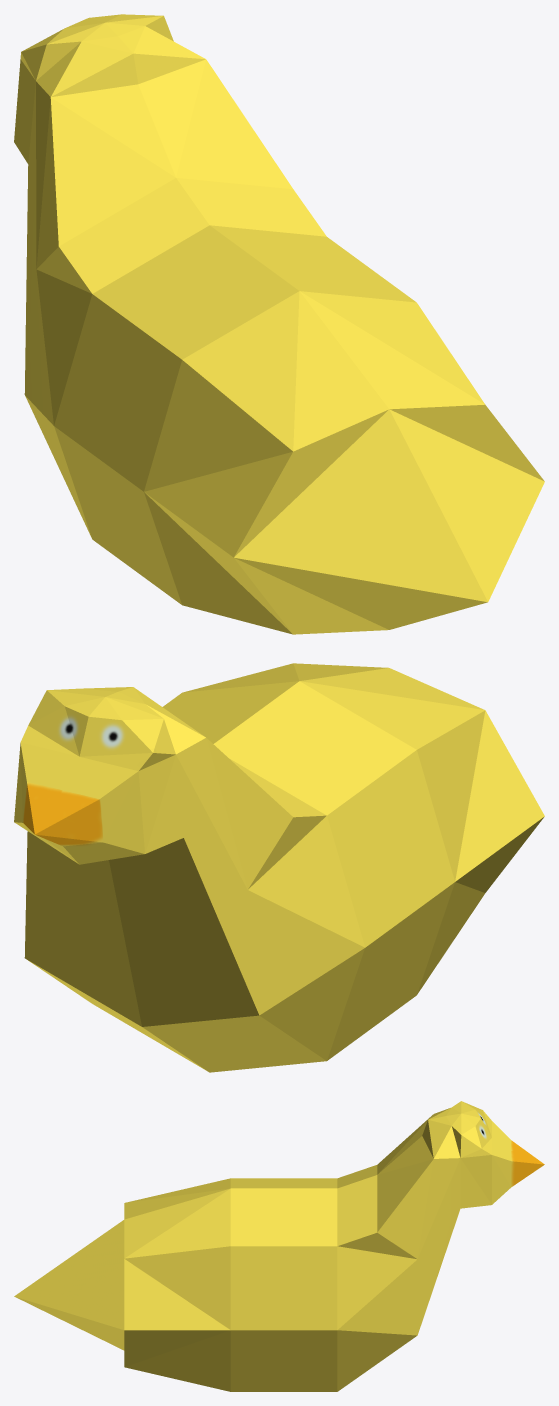
Rendered from chicken.gltf.
3 views of the same model, one above another, from view 1: azimuth 30°, elevation 25°; view 2: azimuth 150°, elevation 25°; view 3: azimuth 270°, elevation 25° (orthographic). The views are drawn at different scales.
Visible parts, largest first — view 1: Cube.001; view 2: Cube.001; view 3: Cube.001.
Boxes of the visible parts, <box> form: Cube.001: <box>14,14,544,634</box>; Cube.001: <box>14,663,544,1072</box>; Cube.001: <box>14,1101,544,1391</box>.
Bounding box in the file's own units: 2 × 2.78 × 4.98.
1 material, 1 textured.
